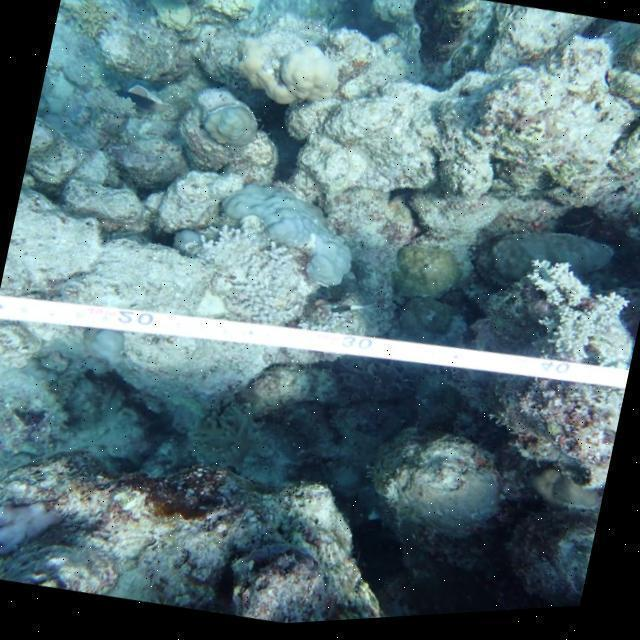Bleached Coral: (527, 260, 633, 367)
